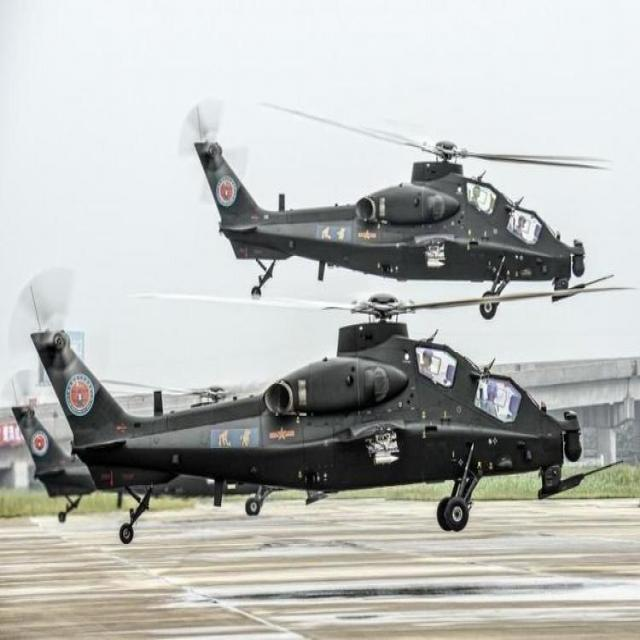MIL_HELO: (23, 272, 585, 534), (144, 97, 612, 342)
